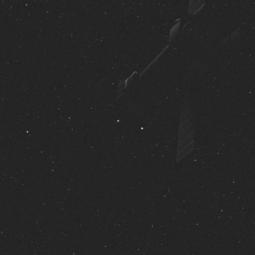xmm_newton: (104, 0, 255, 162)
